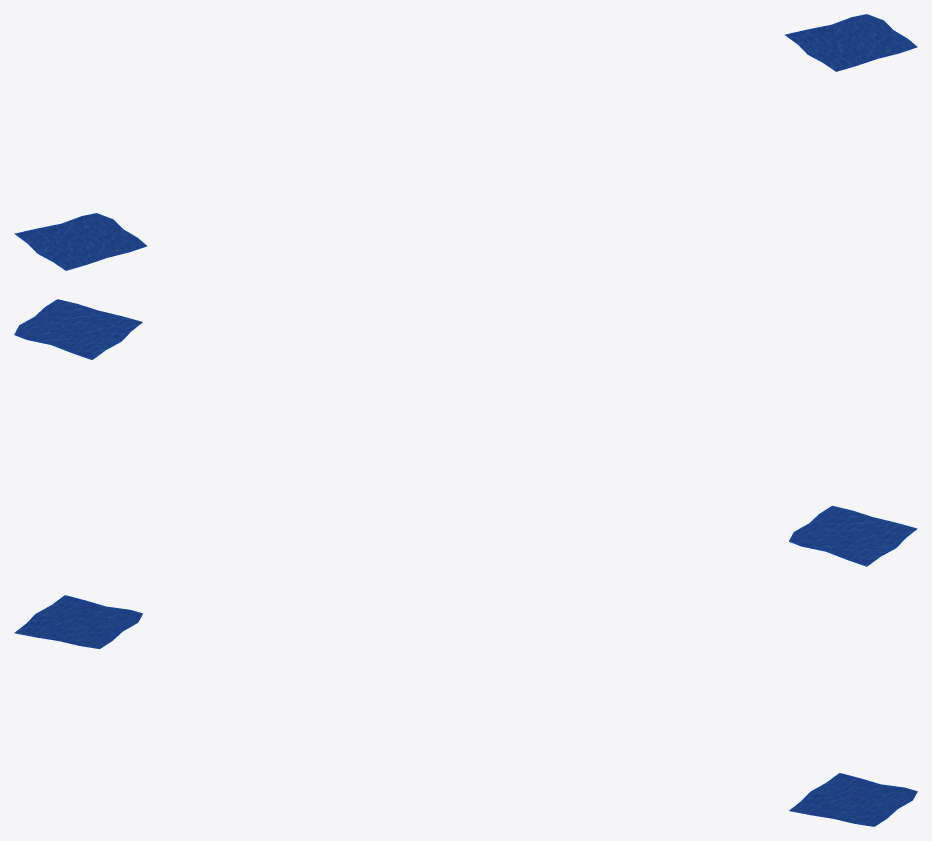
Rendered from Tarps.fbx.
3 views of the same model, one above another, from view 1: azimuth 30°, elevation 25°; view 2: azimuth 150°, elevation 25°; view 3: azimuth 330°, elevation 25° (orthographic).
Parts seen in each view (by area): view 1: Tarp1, Tarp2; view 2: Tarp2, Tarp1; view 3: Tarp2, Tarp1.
Boxes of the visible parts, x1,y1,x2,y2 form: Tarp1: (14,213,147,270); Tarp2: (784,14,917,71); Tarp2: (14,299,142,359); Tarp1: (789,505,917,566); Tarp2: (789,773,917,826); Tarp1: (14,595,142,648).
Size of the model in its own units: 1383 by 27.55 by 152.
